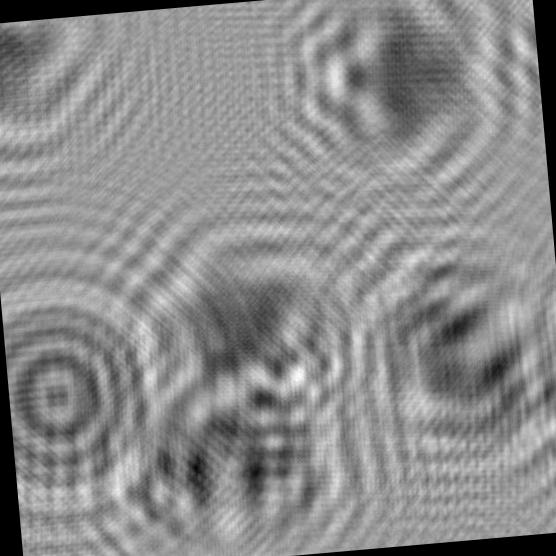K: (134, 192, 394, 449), (265, 0, 526, 189), (0, 12, 135, 177)
M: (120, 335, 400, 556), (325, 211, 556, 471)
O: (0, 253, 190, 528)
